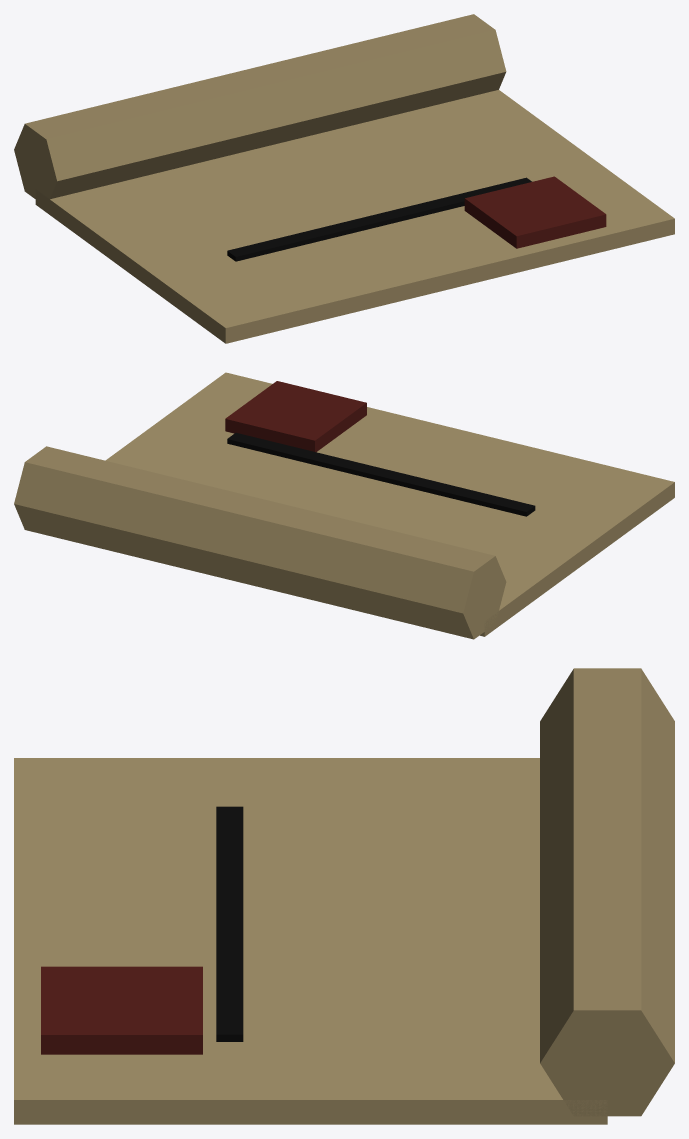
File: manifest.glb
3 views of the same model, one above another, from view 1: azimuth 30°, elevation 25°; view 2: azimuth 150°, elevation 25°; view 3: azimuth 270°, elevation 25° (orthographic). The views are drawn at different scales.
Parts seen in each view (by area): view 1: Manifest; view 2: Manifest; view 3: Manifest.
Part boxes in pixels (<box>): Manifest: <box>14,14,674,343</box>; Manifest: <box>14,372,674,639</box>; Manifest: <box>14,668,674,1124</box>.
Bounding box in the file's own units: 0.3 × 0.0467 × 0.245.
